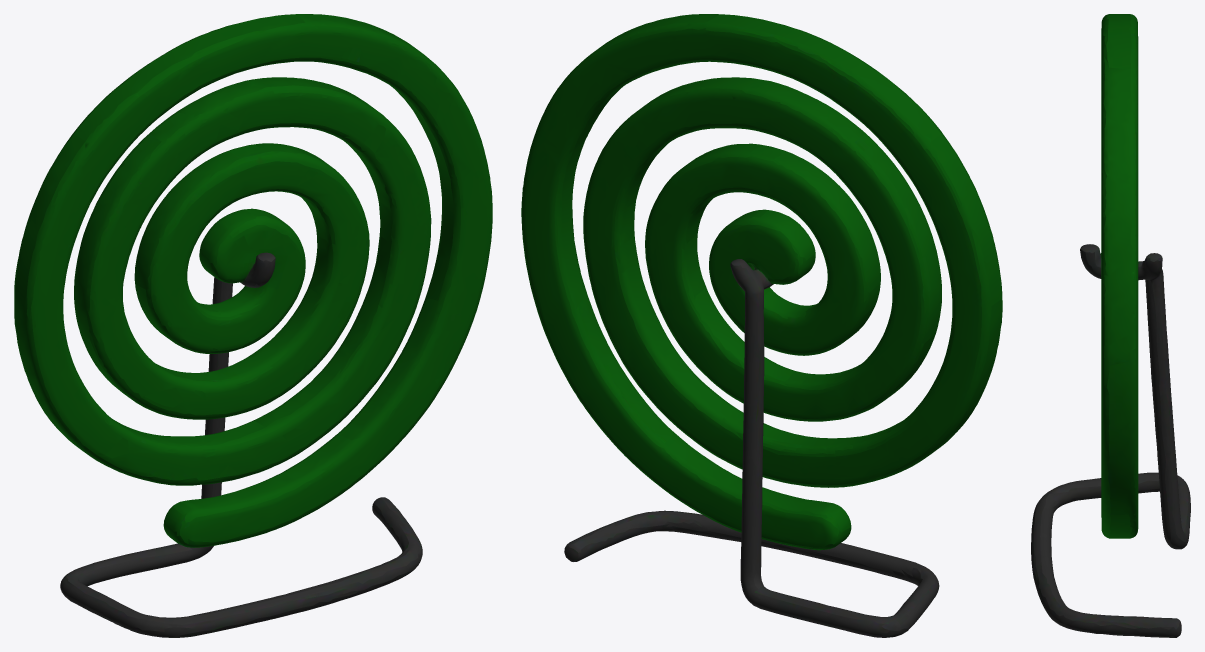
Rendered from mosquito_coil.glb.
The picture shows the model from 3 angles, left to right: view 1: azimuth 30°, elevation 25°; view 2: azimuth 150°, elevation 25°; view 3: azimuth 270°, elevation 25°; orthographic projection. The views are drawn at different scales.
Parts seen in each view (by area): view 1: geometry_0; view 2: geometry_0; view 3: geometry_0.
Boxes of the visible parts, box(x1,y1,x2,y2) form: geometry_0: box(14, 14, 492, 637); geometry_0: box(521, 14, 1002, 637); geometry_0: box(1031, 14, 1190, 637).
Size of the model in its own units: 0.1405 by 0.16 by 0.044.
Materials: 1 (1 with a texture image).
